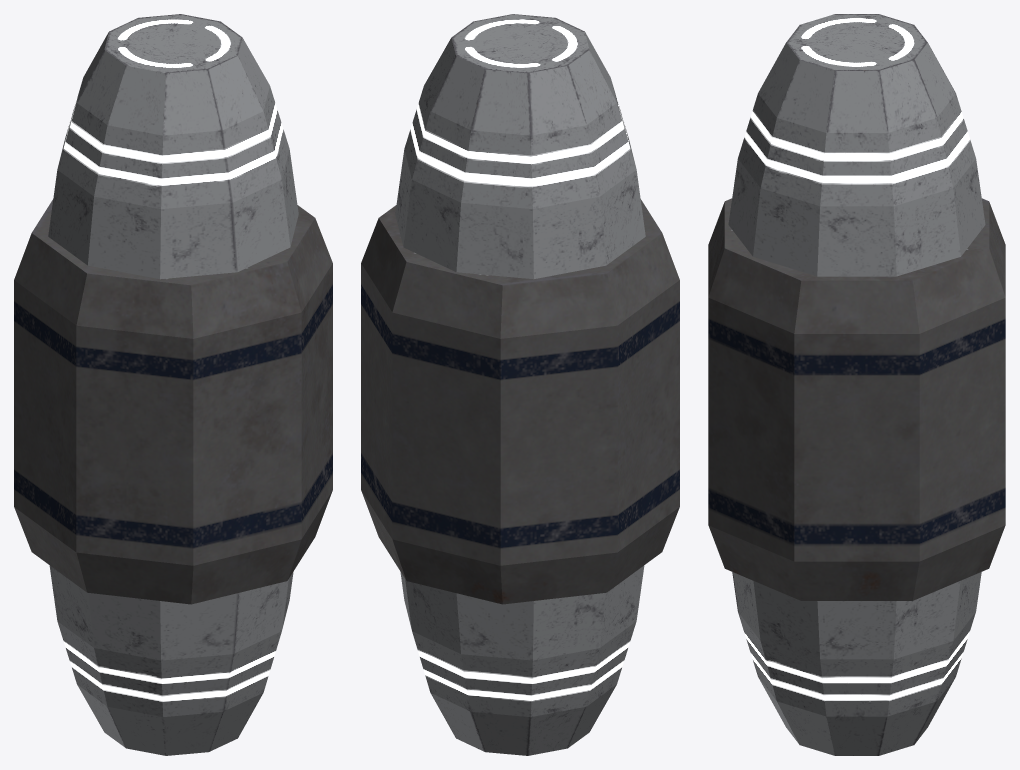
File: engine_m_1.fbx
3 renders of one model, left to right at view 1: azimuth 30°, elevation 25°; view 2: azimuth 150°, elevation 25°; view 3: azimuth 270°, elevation 25°, orthographic.
Parts seen in each view (by area): view 1: engine_m_1; view 2: engine_m_1; view 3: engine_m_1.
Part boxes in pixels (x1,y1,x2,y2): engine_m_1: (14, 14, 332, 755); engine_m_1: (361, 14, 679, 755); engine_m_1: (708, 14, 1005, 755).
Size of the model in its own units: 3.91 by 9.94 by 3.91.
